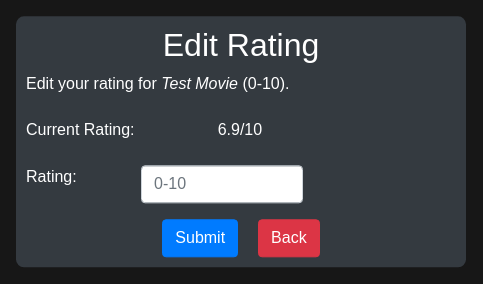
Test: addRating component › submit functionallity › edit/add rating › should update the database if there are no errors
Type "6" into the number field labelled "Rating:" at [222, 185], box [141,166,303,204]
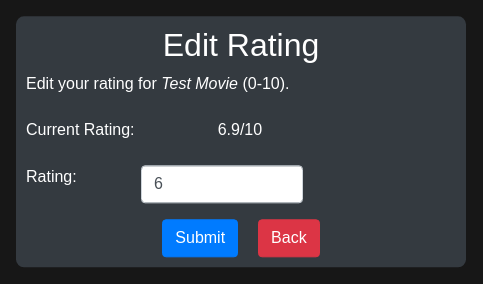
Click the button "Submit" at [200, 239], box [162,220,238,258]
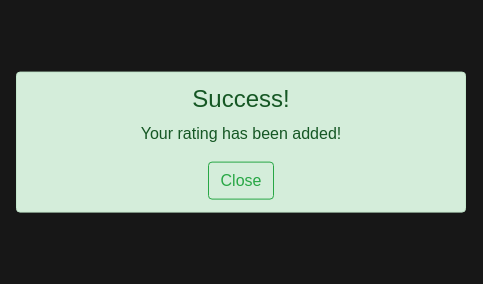
Expected: the text "Success!" is shown, [192,85,290,113]
